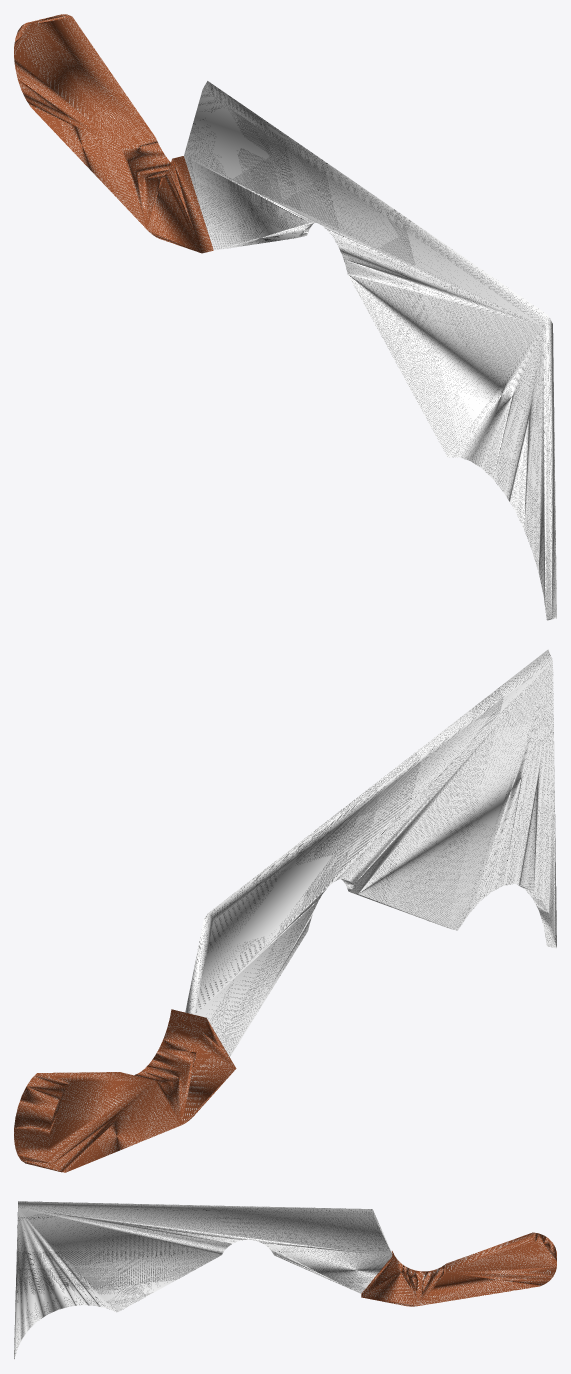
File: model_align.obj
3 views of the same model, one above another, from view 1: azimuth 30°, elevation 25°; view 2: azimuth 150°, elevation 25°; view 3: azimuth 270°, elevation 25° (orthographic). The views are drawn at different scales.
Bounding box in the file's own units: 0.00799 × 0.0654 × 0.2049.
